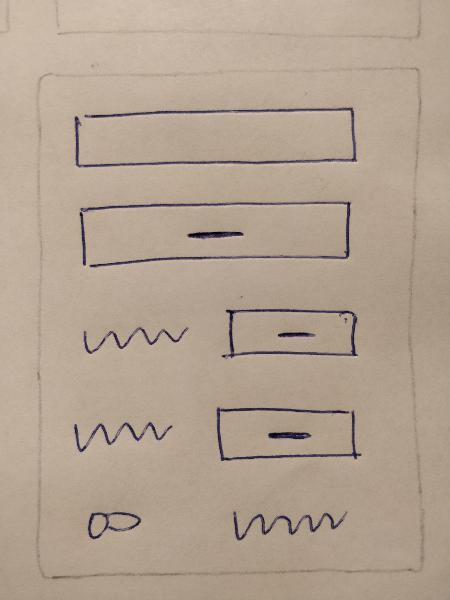button: (67, 195, 361, 271), (215, 297, 363, 368), (212, 399, 363, 468)
switch: (76, 500, 148, 543)
text: (71, 319, 194, 360), (61, 413, 184, 454), (229, 502, 352, 543)
text_input: (67, 105, 362, 172)
